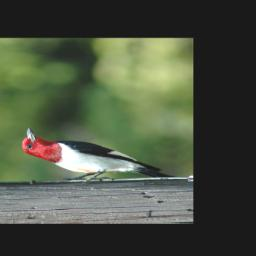Woodpecker: (21, 126, 181, 188)
